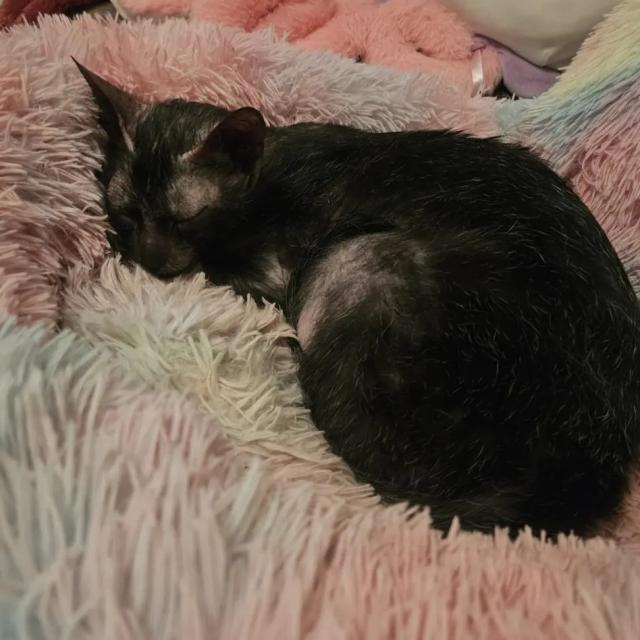Lykoi: (67, 50, 640, 548)
